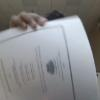notebook: (0, 14, 99, 99)
